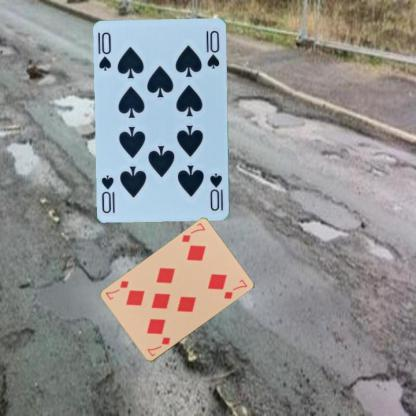10s: (207, 170, 225, 212), (96, 30, 112, 72)
7d: (179, 220, 206, 244), (144, 335, 172, 358)
